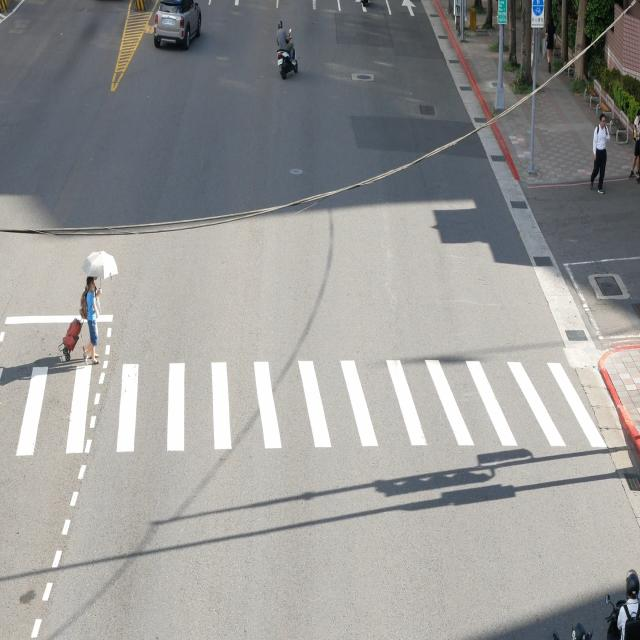pedestrian: (59, 251, 118, 364)
